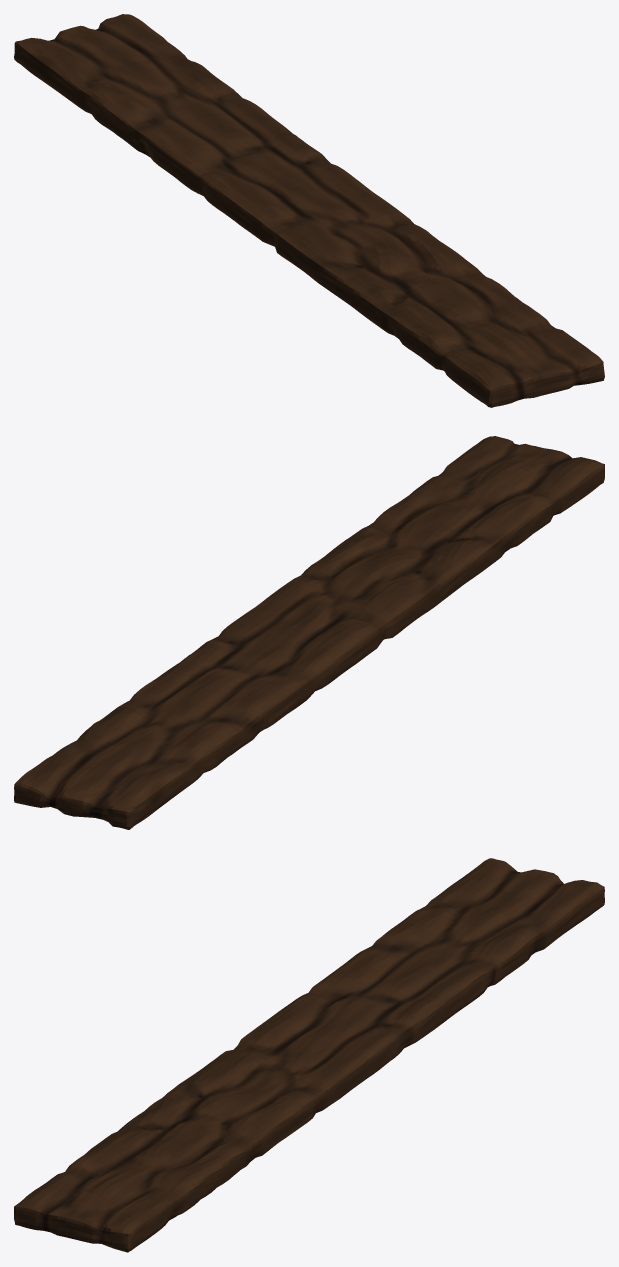
The model's file is Final_Platform.fbx.
The picture shows the model from 3 angles, top to bottom: view 1: azimuth 30°, elevation 25°; view 2: azimuth 150°, elevation 25°; view 3: azimuth 330°, elevation 25°; orthographic projection.
Visible parts, largest first — view 1: Final_Platform:ZBrushPolyMesh3D; view 2: Final_Platform:ZBrushPolyMesh3D; view 3: Final_Platform:ZBrushPolyMesh3D.
Part boxes in pixels (x1,y1,x2,y2): Final_Platform:ZBrushPolyMesh3D: (14, 14, 604, 407); Final_Platform:ZBrushPolyMesh3D: (14, 436, 604, 829); Final_Platform:ZBrushPolyMesh3D: (14, 858, 604, 1252).
Bounding box in the file's own units: 1.99 × 0.4372 × 13.94.
